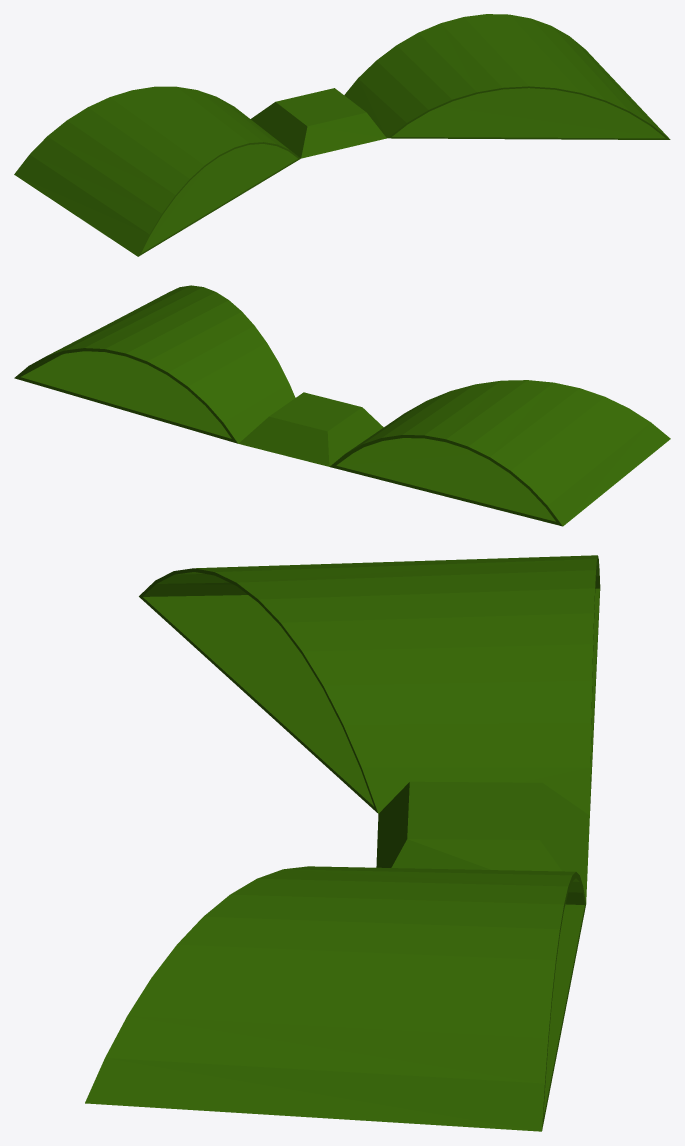
File: Prop_Christmas_Ornament_Bow_Green_01.FBX
The picture shows the model from 3 angles, top to bottom: view 1: azimuth 30°, elevation 25°; view 2: azimuth 150°, elevation 25°; view 3: azimuth 270°, elevation 25°; orthographic projection. The views are drawn at different scales.
Parts seen in each view (by area): view 1: Prop_Christmas_Ornament_Bow_Green_01; view 2: Prop_Christmas_Ornament_Bow_Green_01; view 3: Prop_Christmas_Ornament_Bow_Green_01.
Boxes of the visible parts, <box> form: Prop_Christmas_Ornament_Bow_Green_01: <box>14,14,670,256</box>; Prop_Christmas_Ornament_Bow_Green_01: <box>14,285,670,526</box>; Prop_Christmas_Ornament_Bow_Green_01: <box>85,555,600,1131</box>.
Bounding box in the file's own units: 329 × 32.12 × 132.
